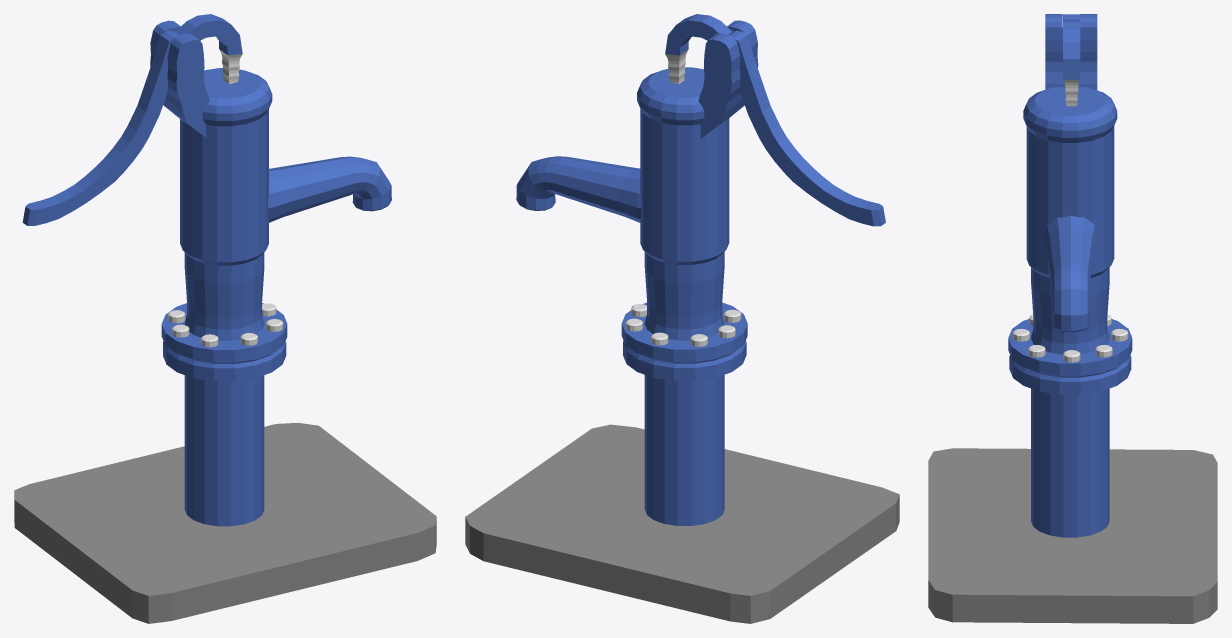
File: kalonkablend.fbx
3 renders of one model, left to right at view 1: azimuth 30°, elevation 25°; view 2: azimuth 150°, elevation 25°; view 3: azimuth 270°, elevation 25°, orthographic.
Visible parts, largest first — view 1: Куб, Окружность, Куб.002, Окружность.001, Куб.001, Окружность.002; view 2: Куб, Окружность, Куб.002, Окружность.001, Куб.001, Окружность.002; view 3: Куб, Окружность, Окружность.001, Куб.001, Куб.002, Окружность.002.
Boxes of the visible parts, left/top/right/bottom form: Куб: left=14, top=422, right=436, bottom=623; Окружность: left=161, top=68, right=287, bottom=526; Куб.002: left=22, top=14, right=242, bottom=225; Окружность.001: left=268, top=156, right=391, bottom=222; Куб.001: left=150, top=20, right=209, bottom=137; Окружность.002: left=168, top=303, right=283, bottom=347; Куб: left=465, top=424, right=899, bottom=623; Окружность: left=621, top=67, right=747, bottom=525; Куб.002: left=665, top=14, right=885, bottom=226; Окружность.001: left=516, top=156, right=641, bottom=222; Куб.001: left=698, top=20, right=758, bottom=138; Окружность.002: left=625, top=304, right=741, bottom=346; Куб: left=928, top=448, right=1217, bottom=623; Окружность: left=1008, top=87, right=1132, bottom=537; Окружность.001: left=1043, top=215, right=1098, bottom=331; Куб.001: left=1045, top=14, right=1097, bottom=90; Куб.002: left=1063, top=14, right=1080, bottom=106; Окружность.002: left=1012, top=314, right=1128, bottom=362.
Size of the model in its own units: 295 by 406 by 206.
